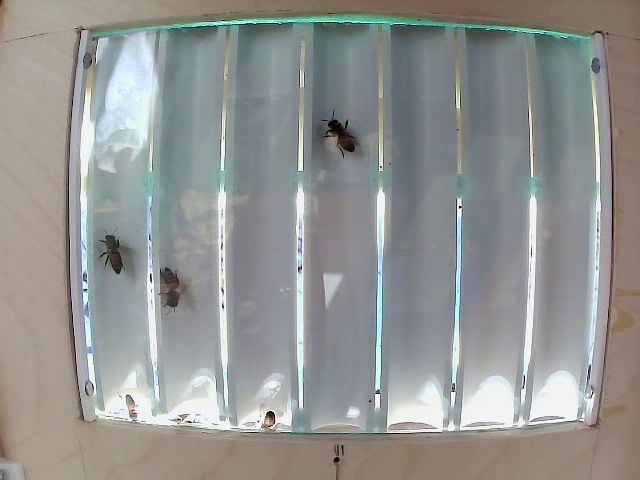bee: (150, 261, 192, 320), (328, 96, 359, 146), (96, 230, 132, 271)
